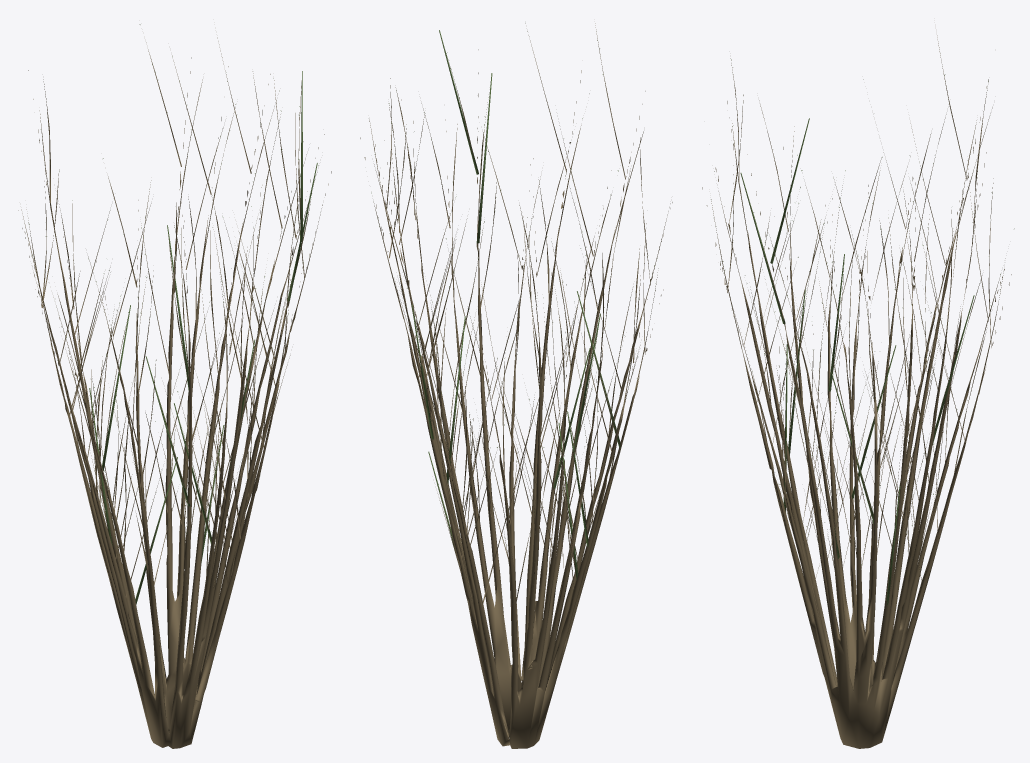
The model's file is BruyereBalais_1_Niveau0.fbx.
3 renders of one model, left to right at view 1: azimuth 30°, elevation 25°; view 2: azimuth 150°, elevation 25°; view 3: azimuth 270°, elevation 25°, orthographic.
Visible parts, largest first — view 1: BruyereBalais_1_Niveau0; view 2: BruyereBalais_1_Niveau0; view 3: BruyereBalais_1_Niveau0.
Part boxes in pixels (<box>): BruyereBalais_1_Niveau0: <box>18,24,331,748</box>; BruyereBalais_1_Niveau0: <box>360,23,672,748</box>; BruyereBalais_1_Niveau0: <box>702,35,1014,748</box>.
Bounding box in the file's own units: 93.66 × 221 × 91.02.
